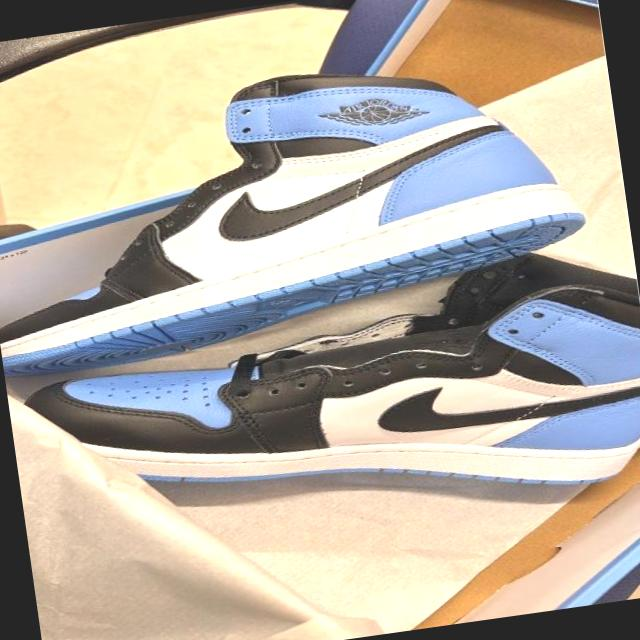nike_original_jordan: (0, 36, 599, 382), (6, 238, 640, 564)
